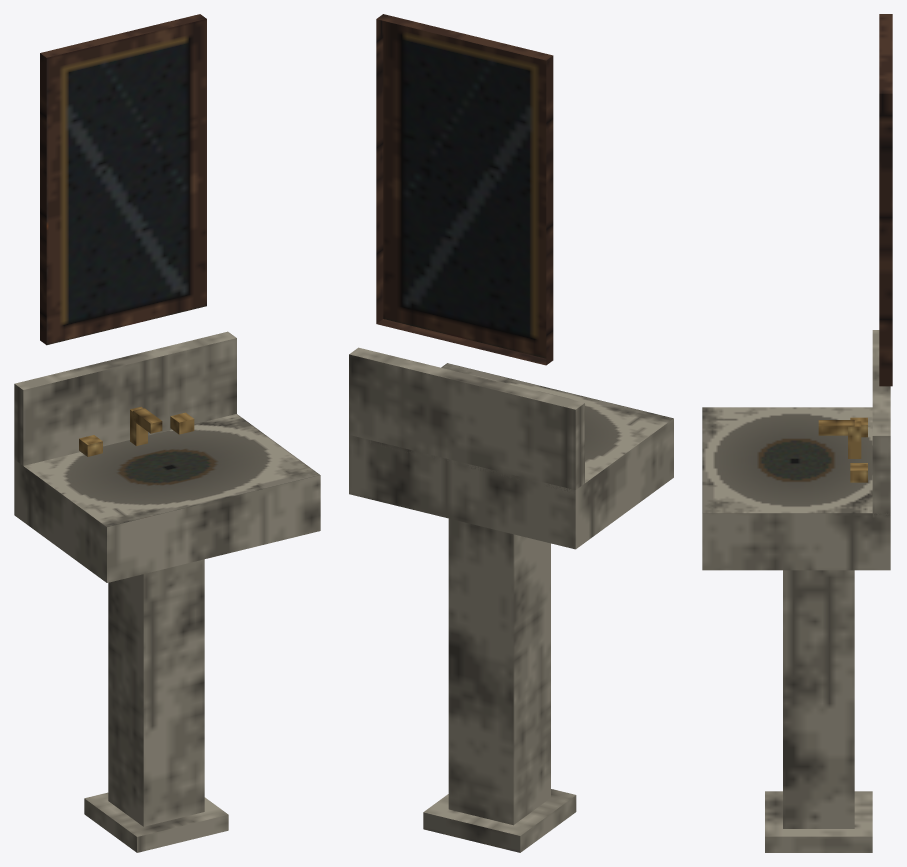
File: Furn_Washbasin.fbx
3 views of the same model, side by side, from view 1: azimuth 30°, elevation 25°; view 2: azimuth 150°, elevation 25°; view 3: azimuth 270°, elevation 25° (orthographic). The views are drawn at different scales.
Parts seen in each view (by area): view 1: Furn_Washbasin, Furn_Washbasin_Mirror; view 2: Furn_Washbasin, Furn_Washbasin_Mirror; view 3: Furn_Washbasin, Furn_Washbasin_Mirror.
Part boxes in pixels (x1,y1,x2,y2): Furn_Washbasin: [14, 331, 320, 852]; Furn_Washbasin_Mirror: [40, 14, 206, 345]; Furn_Washbasin: [349, 347, 673, 852]; Furn_Washbasin_Mirror: [376, 14, 553, 365]; Furn_Washbasin: [702, 330, 890, 852]; Furn_Washbasin_Mirror: [879, 14, 892, 386].
Size of the model in its own units: 0.56 by 1.91 by 0.425.
